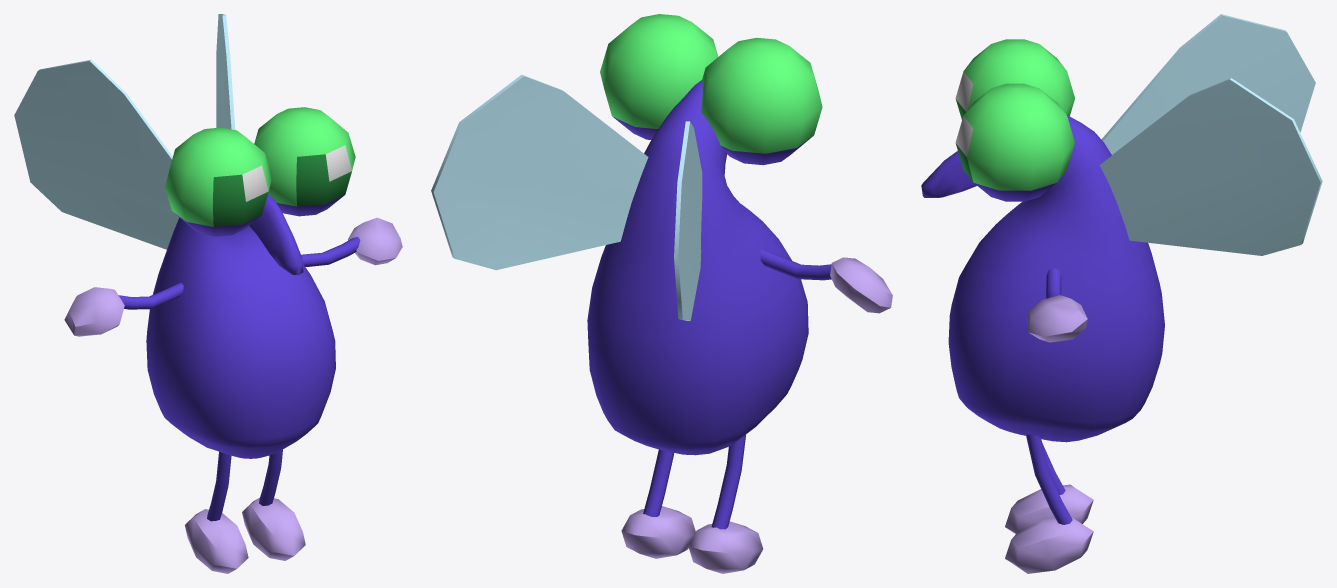
Rendered from Diseño mosca_Join.fbx.
The picture shows the model from 3 angles, left to right: view 1: azimuth 30°, elevation 25°; view 2: azimuth 150°, elevation 25°; view 3: azimuth 270°, elevation 25°; orthographic projection. The views are drawn at different scales.
Parts seen in each view (by area): view 1: Esfera; view 2: Esfera; view 3: Esfera.
Part boxes in pixels (x1,y1,x2,y2): Esfera: [14, 14, 402, 573]; Esfera: [431, 14, 892, 573]; Esfera: [921, 14, 1322, 573].
Size of the model in its own units: 526 by 713 by 508.
